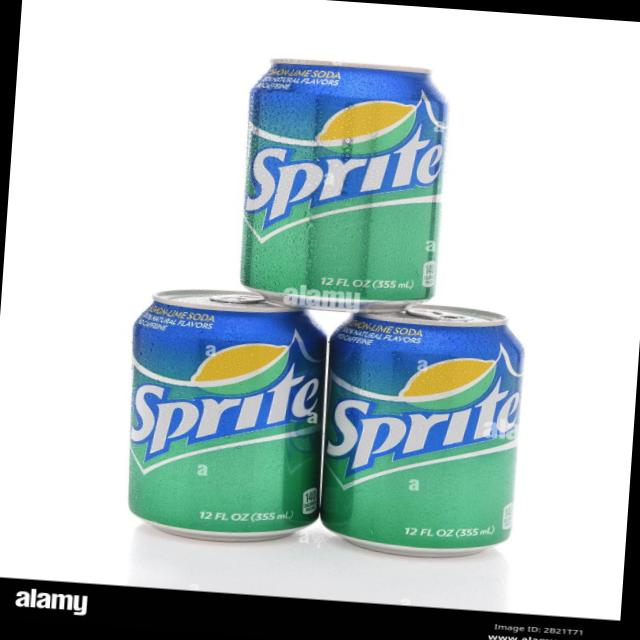sprite: (316, 303, 545, 572), (220, 51, 463, 304), (112, 290, 328, 551)
